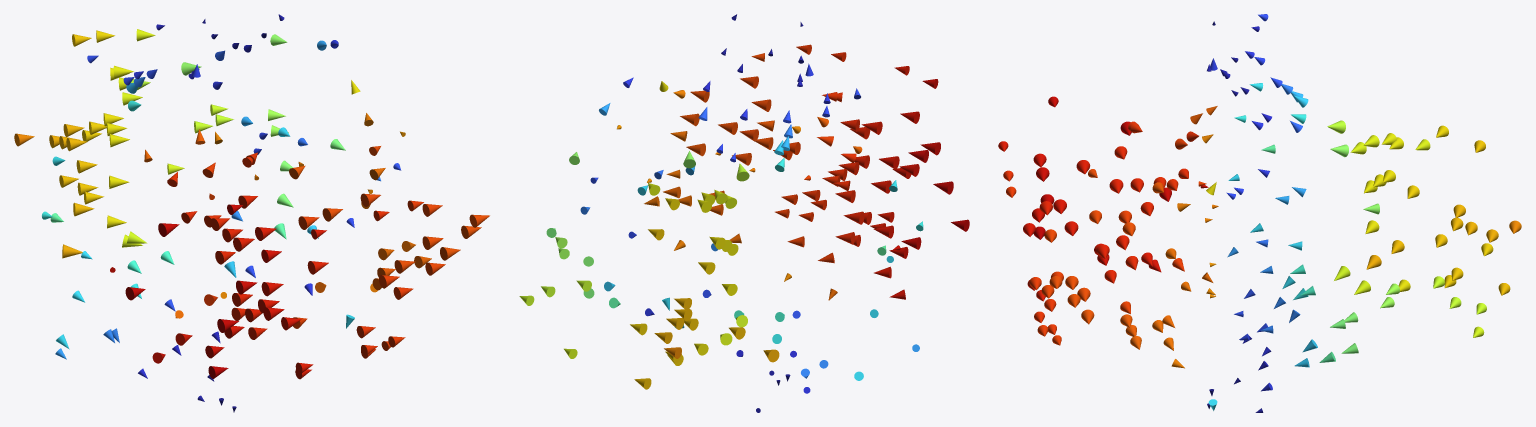
File: LineasCorrienteH2-O2_mh2-1.38_V-0.8.glb
3 views of the same model, side by side, from view 1: azimuth 30°, elevation 25°; view 2: azimuth 150°, elevation 25°; view 3: azimuth 270°, elevation 25° (orthographic). The views are drawn at different scales.
Bounding box in the file's own units: 0.000919 × 0.000996 × 0.00123.
Materials: 2 (2 with a texture image).
